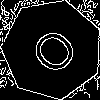O: (27, 24, 89, 84)
